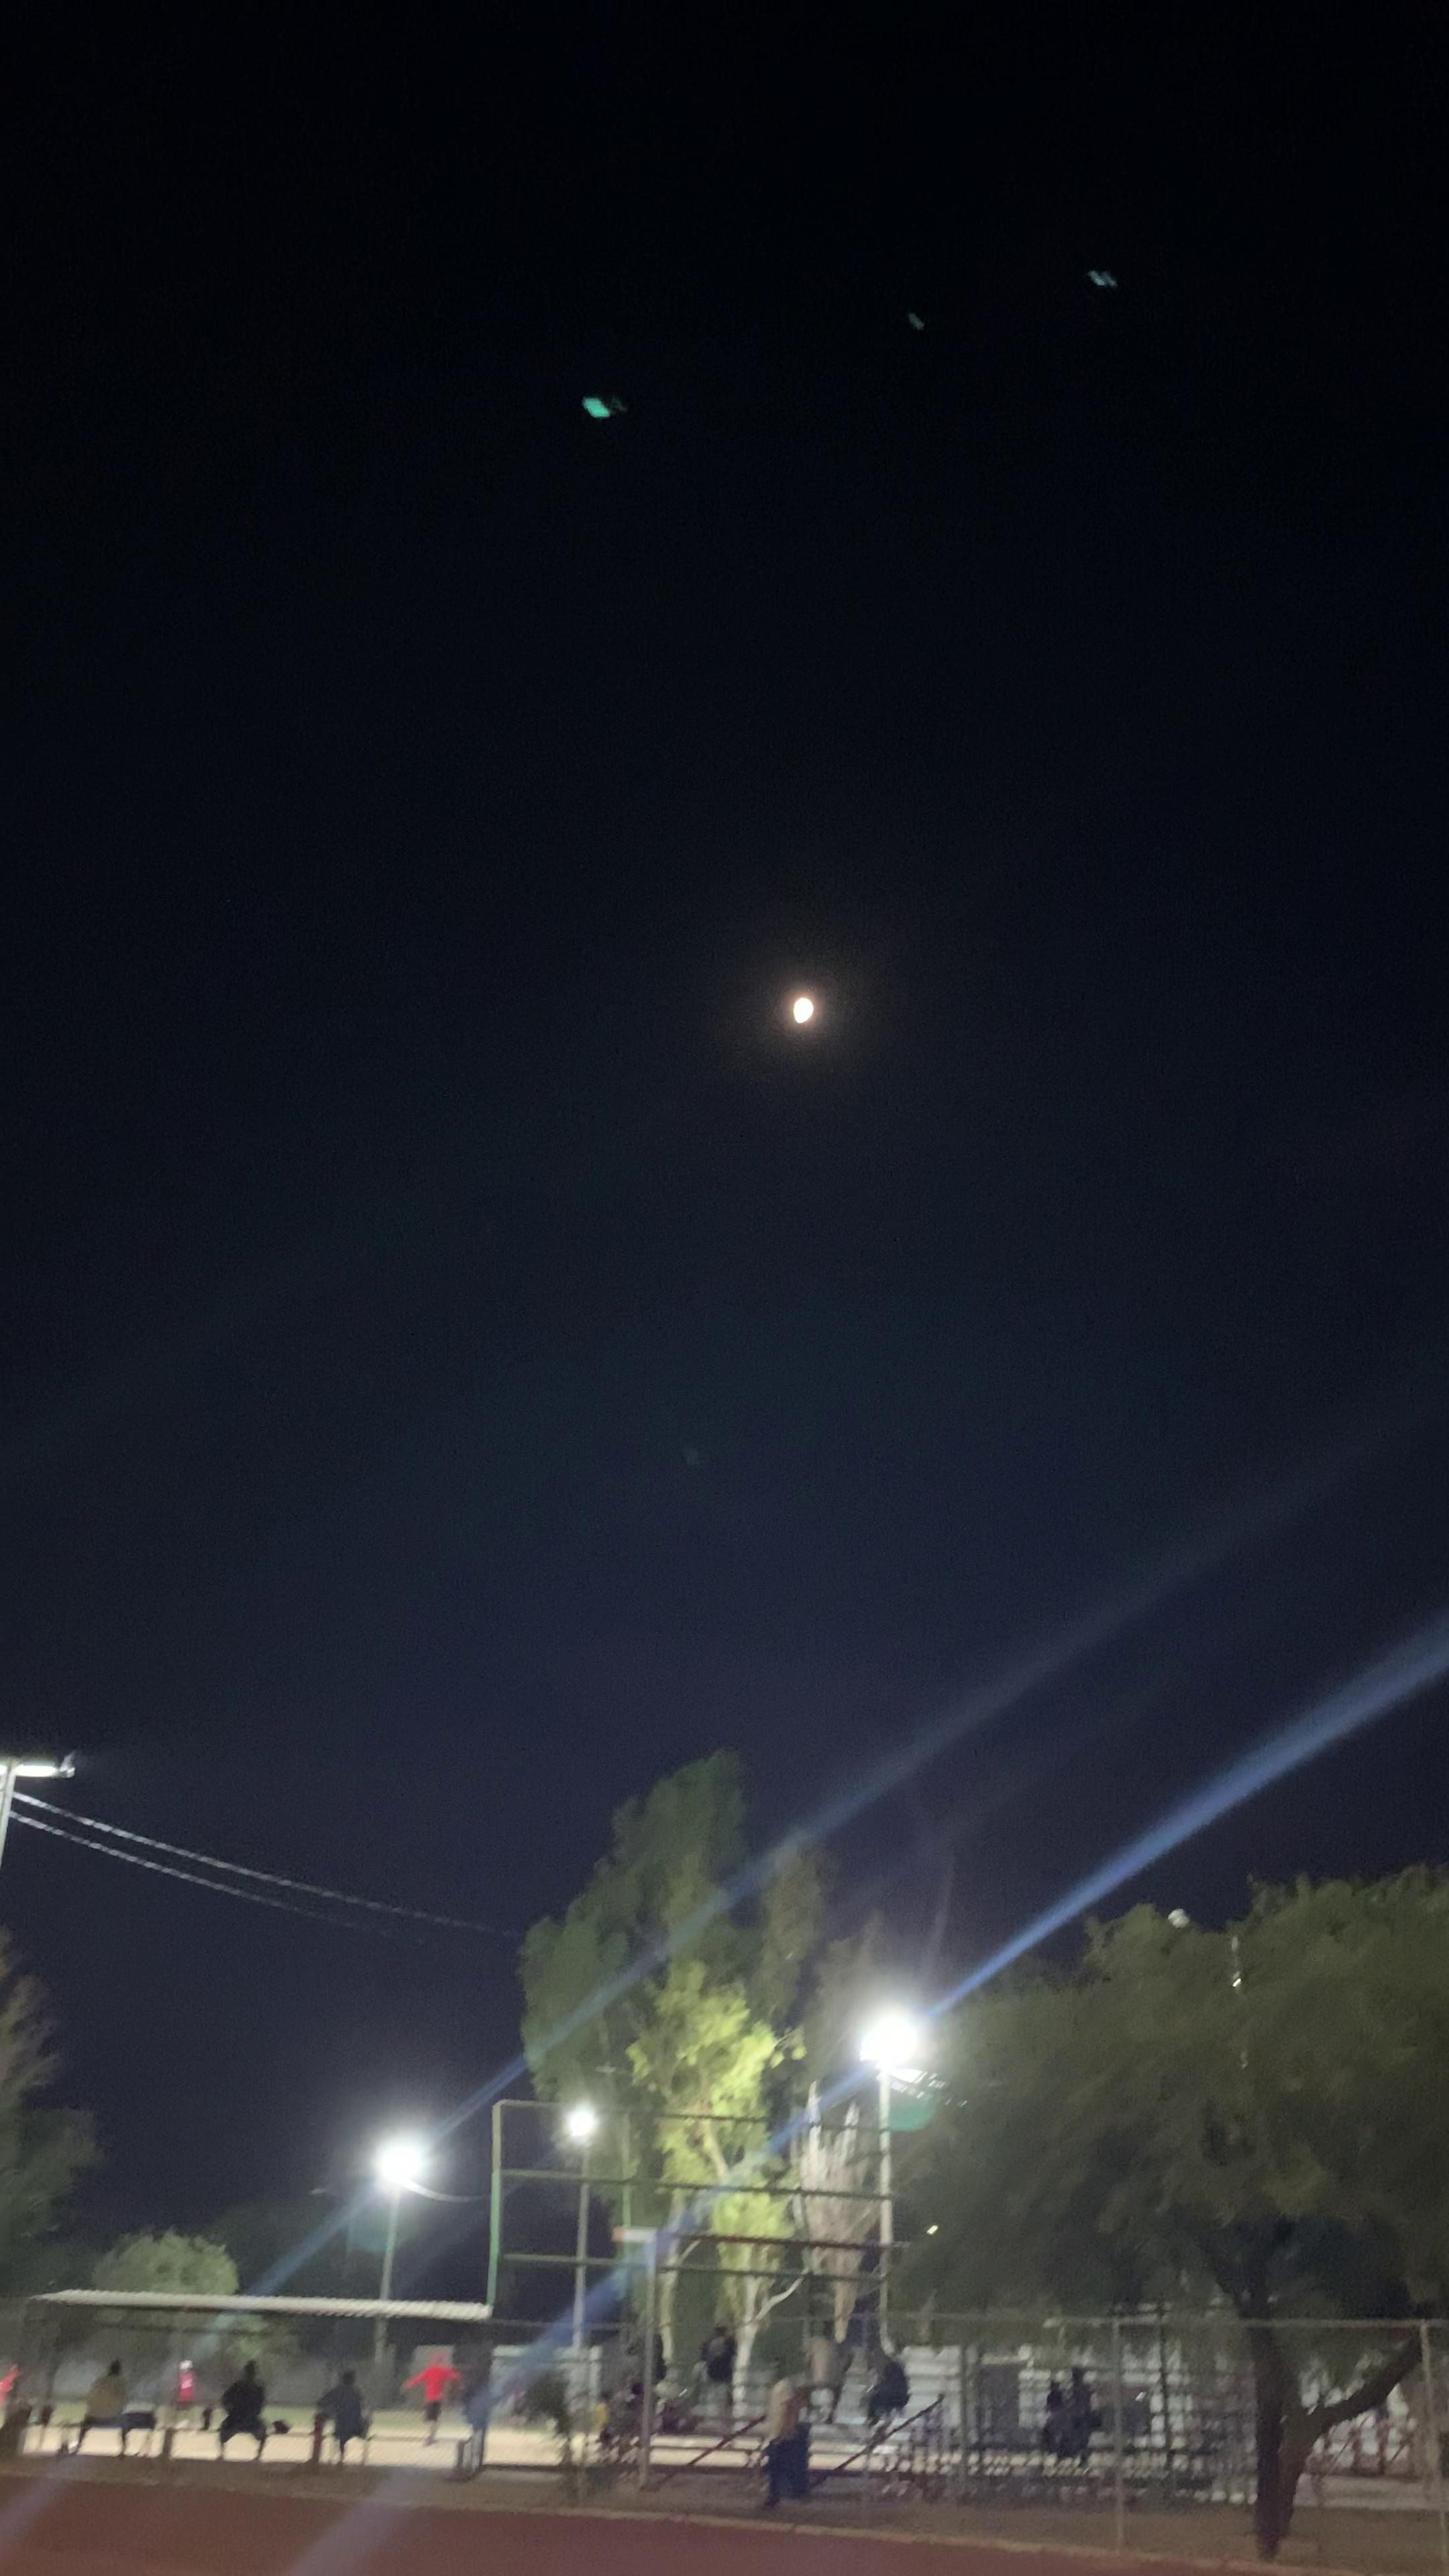moon: (752, 964, 853, 1083)
